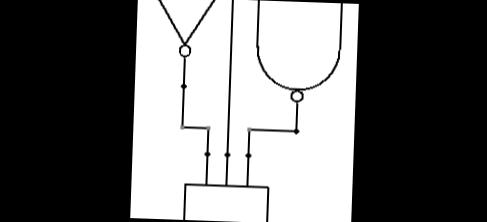and: (177, 175, 273, 222)
nand: (249, 1, 346, 104)
not: (150, 0, 223, 60)
